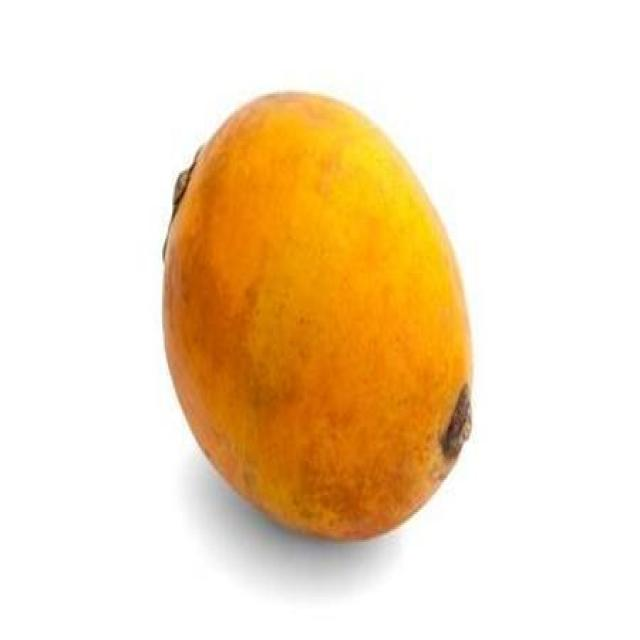good: (161, 94, 475, 544)
